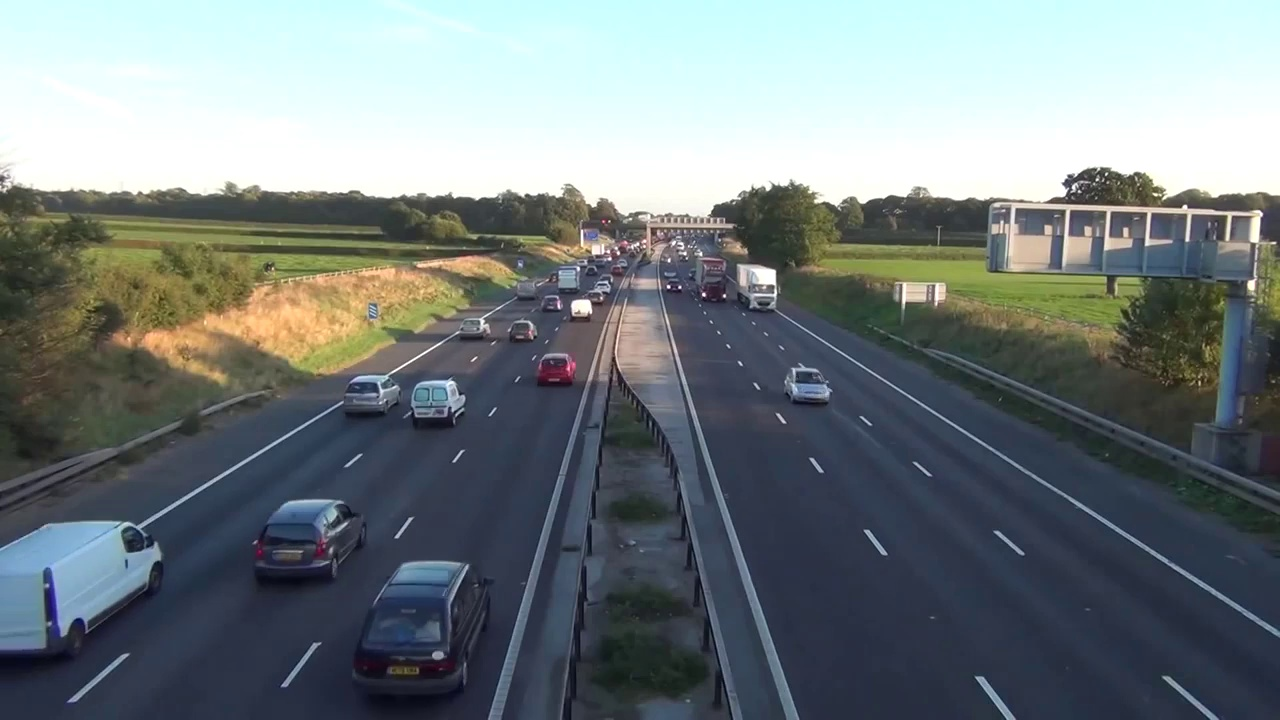bus: (353, 562, 495, 698), (254, 499, 366, 583), (344, 374, 400, 415), (784, 367, 832, 405), (536, 353, 576, 388), (459, 317, 490, 339), (508, 321, 537, 342), (542, 295, 563, 311), (585, 291, 604, 305), (665, 280, 683, 294), (593, 282, 611, 294)
car: (737, 265, 778, 311), (696, 257, 727, 302), (557, 266, 581, 293)
lorry: (0, 521, 164, 661), (410, 381, 467, 427), (570, 300, 593, 320), (517, 281, 537, 300)
